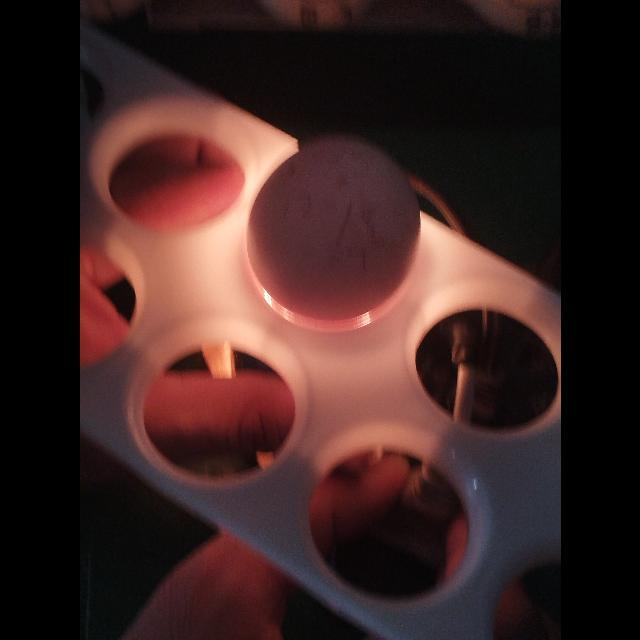B - Fair: (252, 138, 416, 314)
